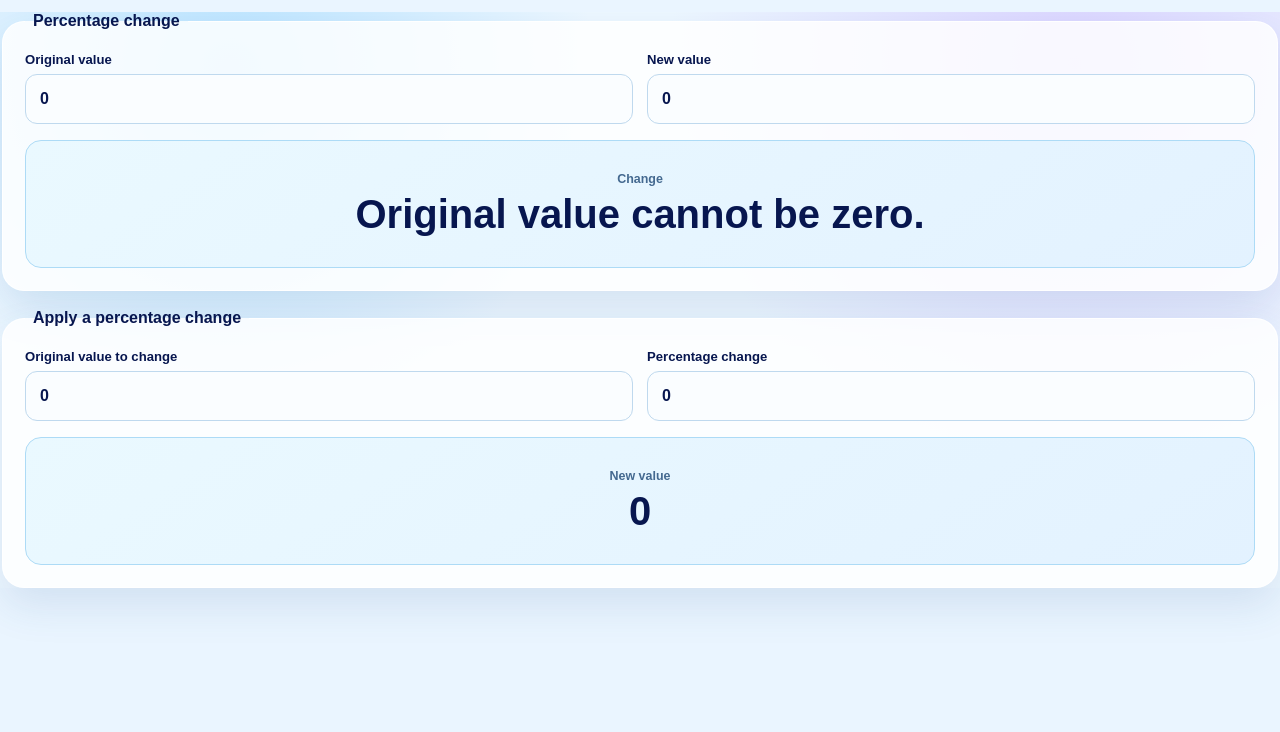
Test: Tier 1 calculator forms › updates percentage change live and announces the result
Replace the text in the number field labelled "Original value" with "80" at (329, 99), box [25, 74, 633, 124]
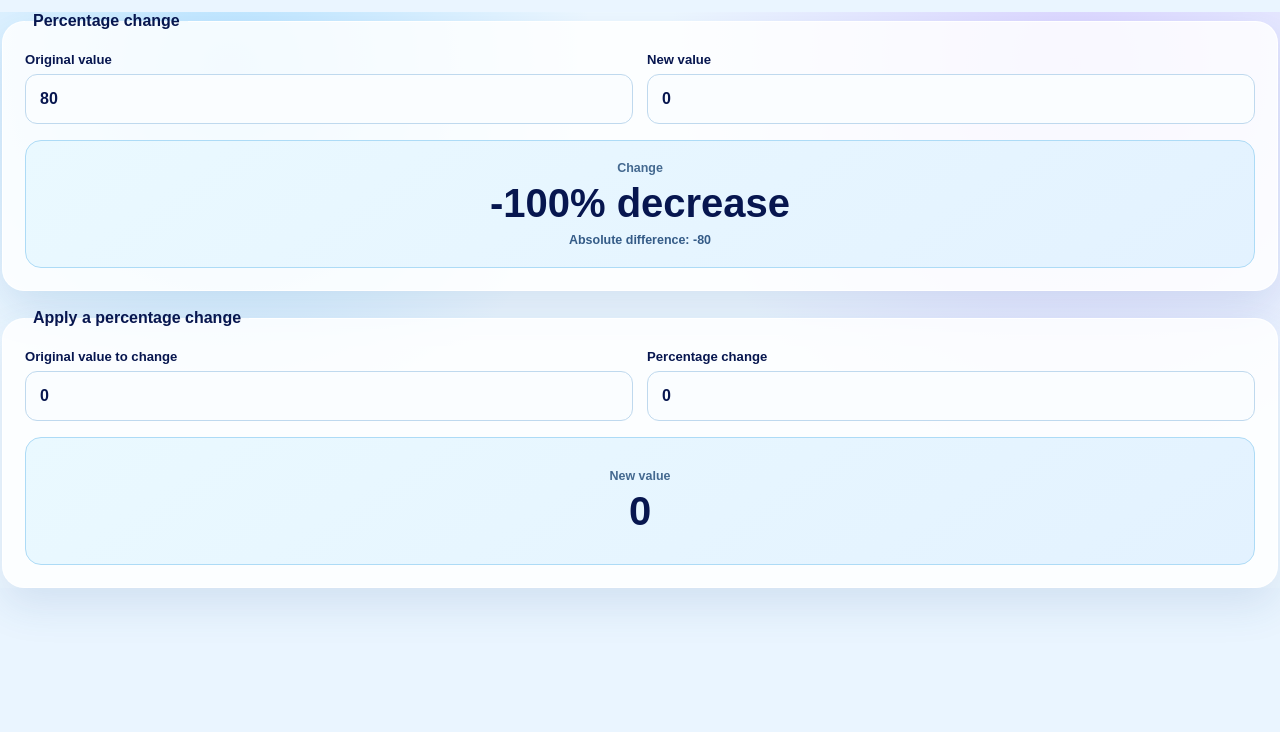
Replace the text in the number field labelled "New value" with "100" at (951, 99), box [647, 74, 1255, 124]
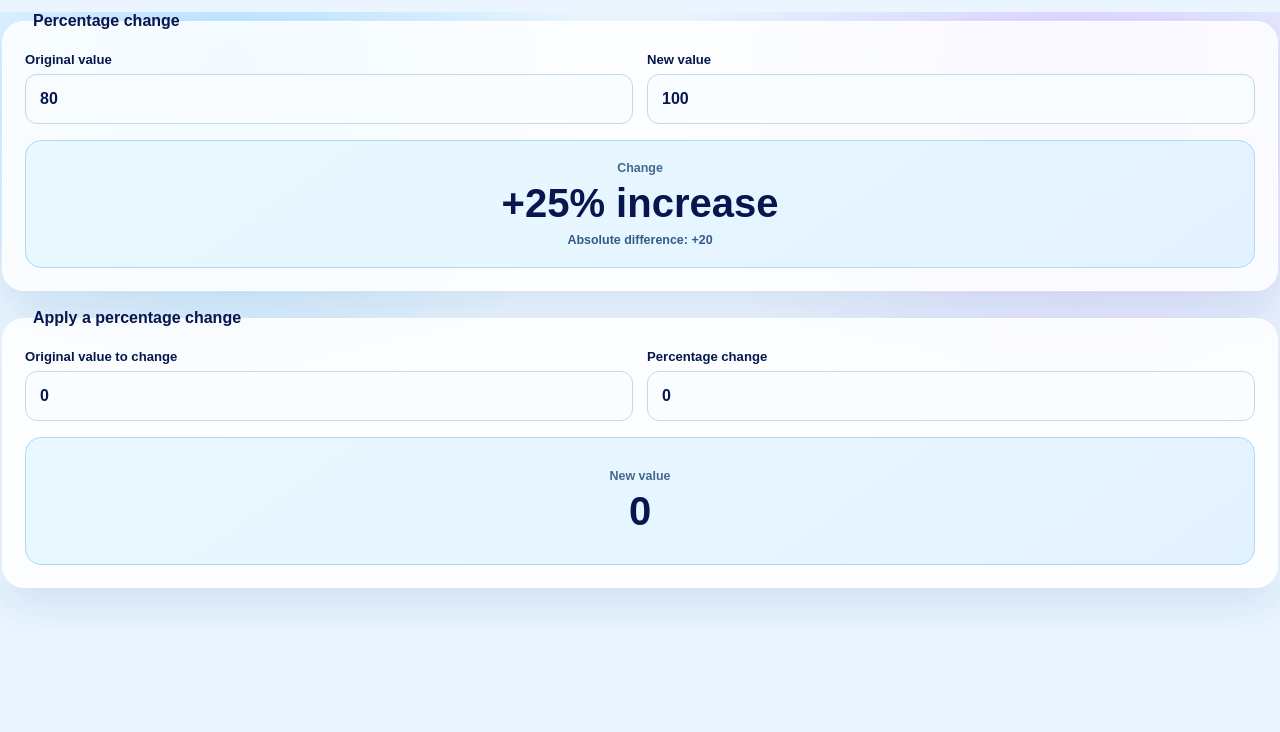
Expected: the text "Absolute difference: +20" is shown, [567, 233, 713, 247]
